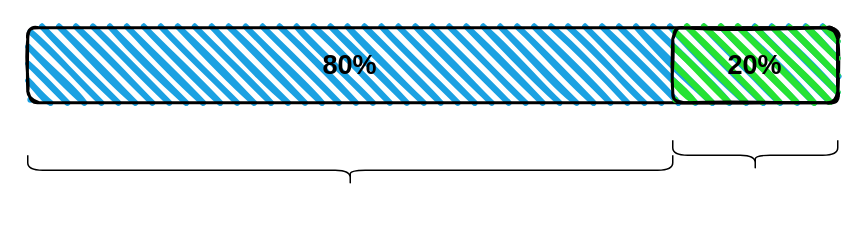
Image size: 864x248. Some labels were removed from this diagram. Each missing label, with the centre of its shape:
Testing Data: [754,154]
Training Data: [349,169]
